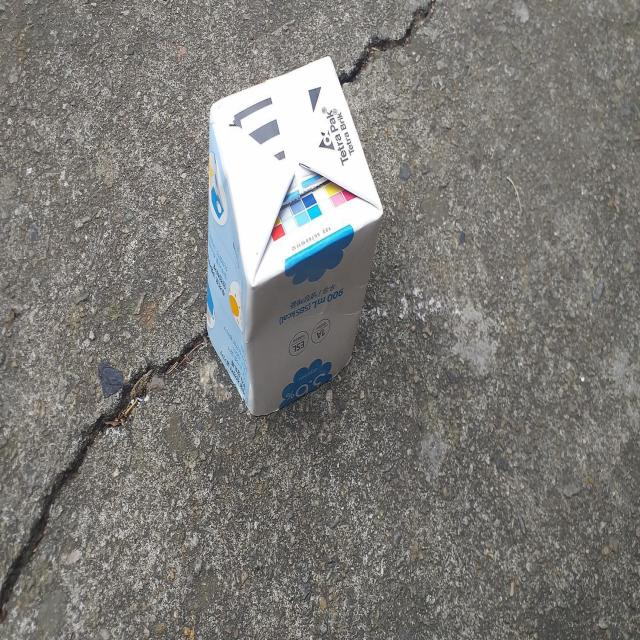paperpack: (206, 55, 382, 414)
